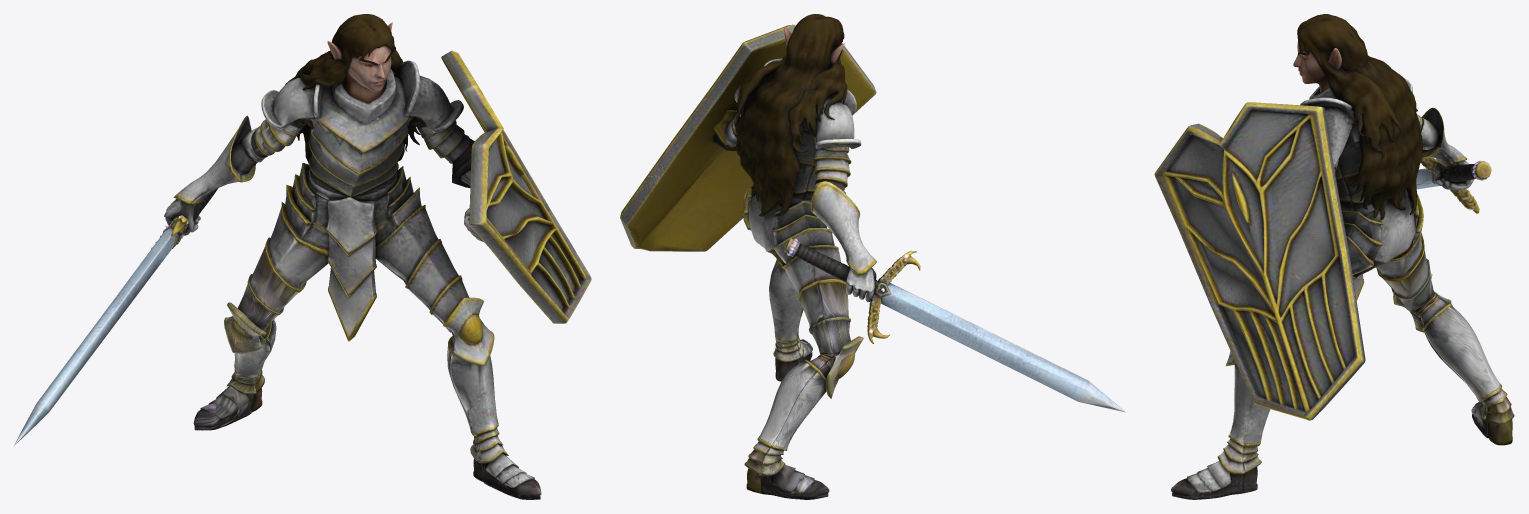
Rendered from MZ4250 - Elf Female Paladin_1 2025.glb.
The picture shows the model from 3 angles, left to right: view 1: azimuth 30°, elevation 25°; view 2: azimuth 150°, elevation 25°; view 3: azimuth 270°, elevation 25°; orthographic projection. The views are drawn at different scales.
Parts seen in each view (by area): view 1: Body.002; view 2: Body.002; view 3: Body.002.
Boxes of the visible parts, x1=… form: Body.002: x1=14, y1=14, x2=591, y2=499; Body.002: x1=620, y1=14, x2=1125, y2=499; Body.002: x1=1154, y1=14, x2=1514, y2=499.
Bounding box in the file's own units: 106 × 80.84 × 60.73.
1 material, 1 textured.
